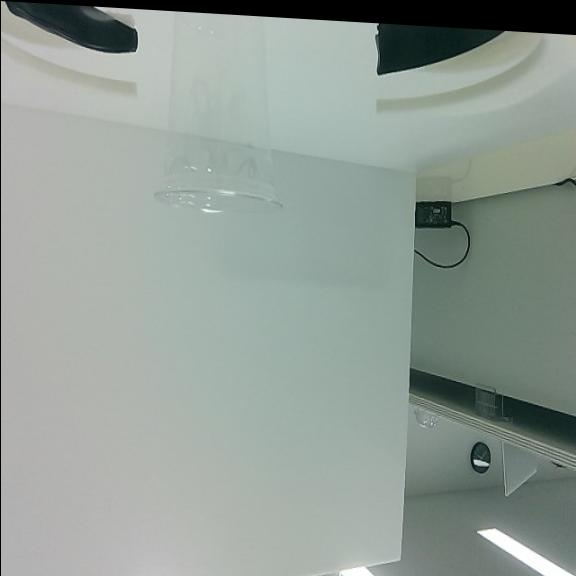Plastik: (155, 13, 279, 210)
